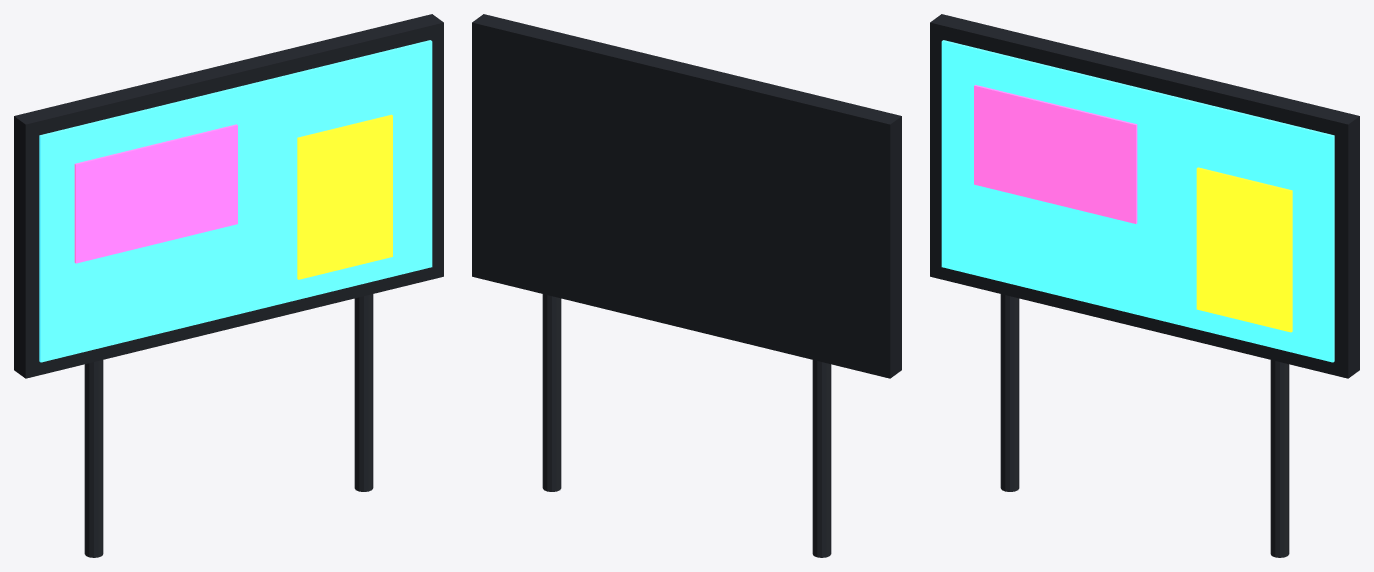
Rendered from big-screen.glb.
3 renders of one model, left to right at view 1: azimuth 30°, elevation 25°; view 2: azimuth 150°, elevation 25°; view 3: azimuth 330°, elevation 25°, orthographic.
Parts seen in each view (by area): view 1: big-screen; view 2: big-screen; view 3: big-screen.
Part boxes in pixels (<box>): big-screen: <box>14,14,443,557</box>; big-screen: <box>472,14,901,557</box>; big-screen: <box>930,14,1359,557</box>.
Bounding box in the file's own units: 6.2 × 6.4 × 0.38.
